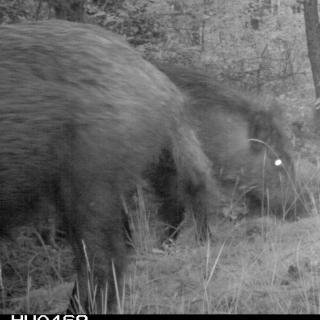Pig: (0, 32, 211, 310), (164, 41, 318, 226)
